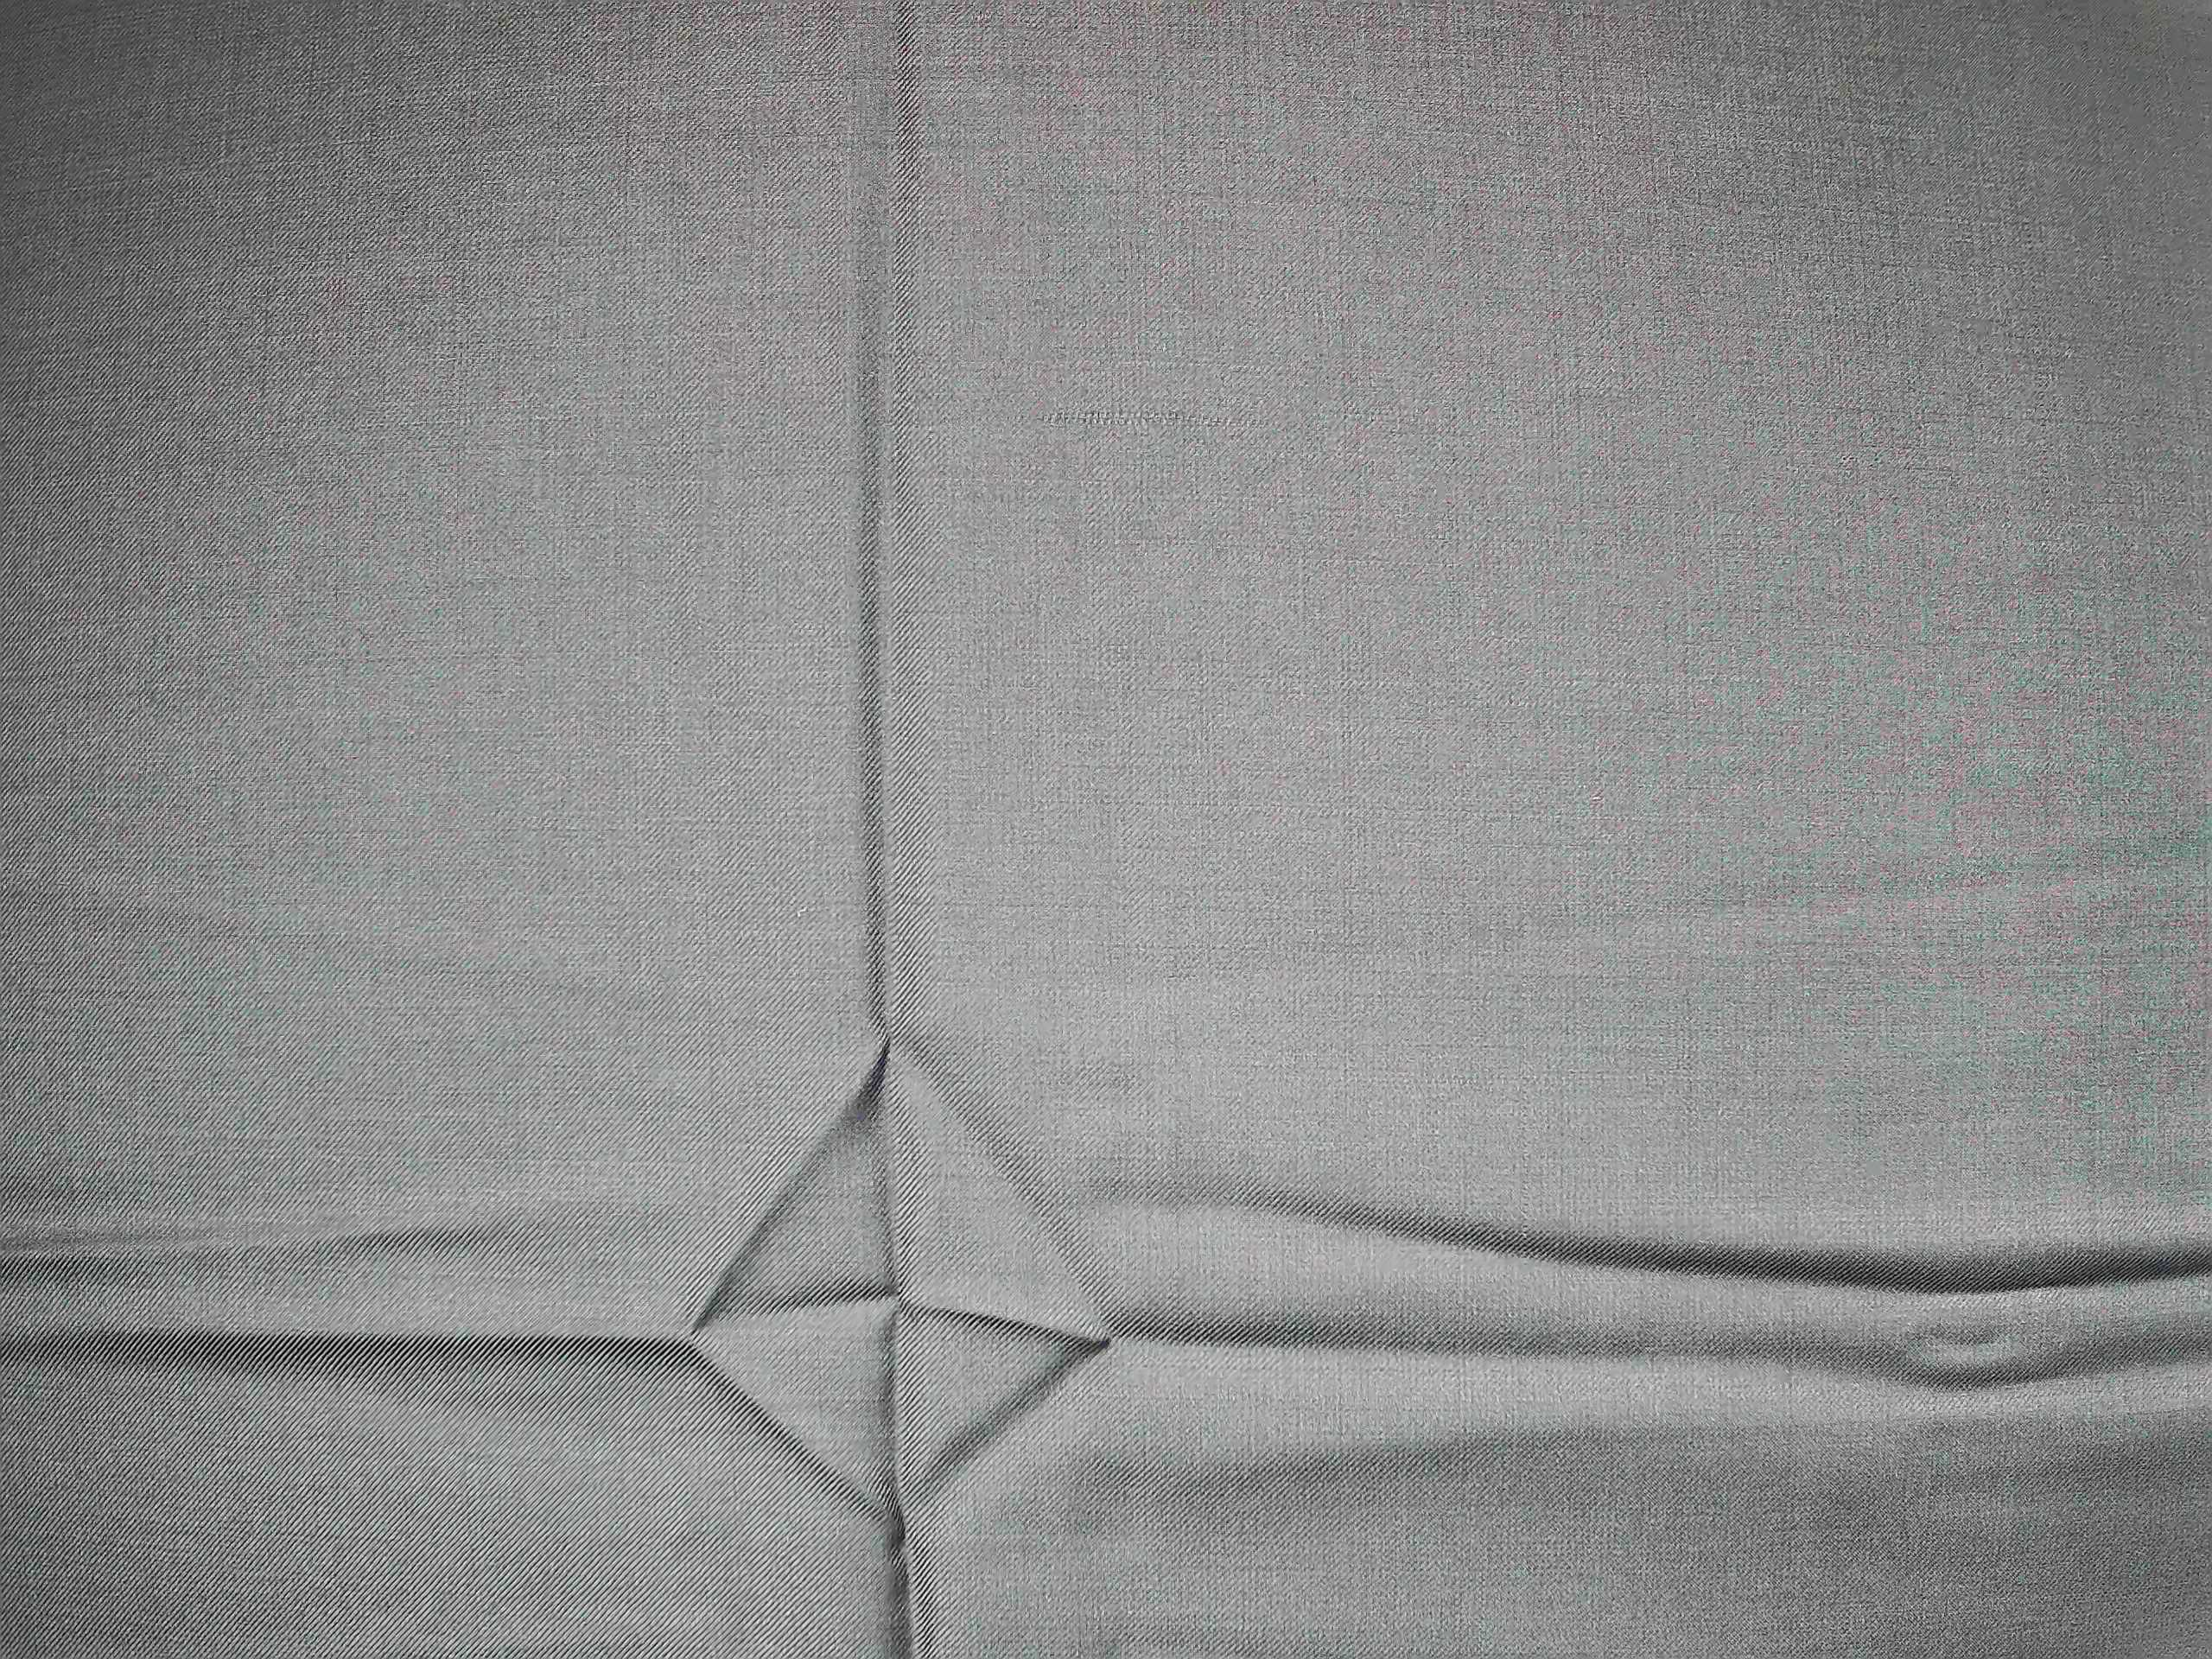thin-spinning: (1003, 389, 1282, 448)
